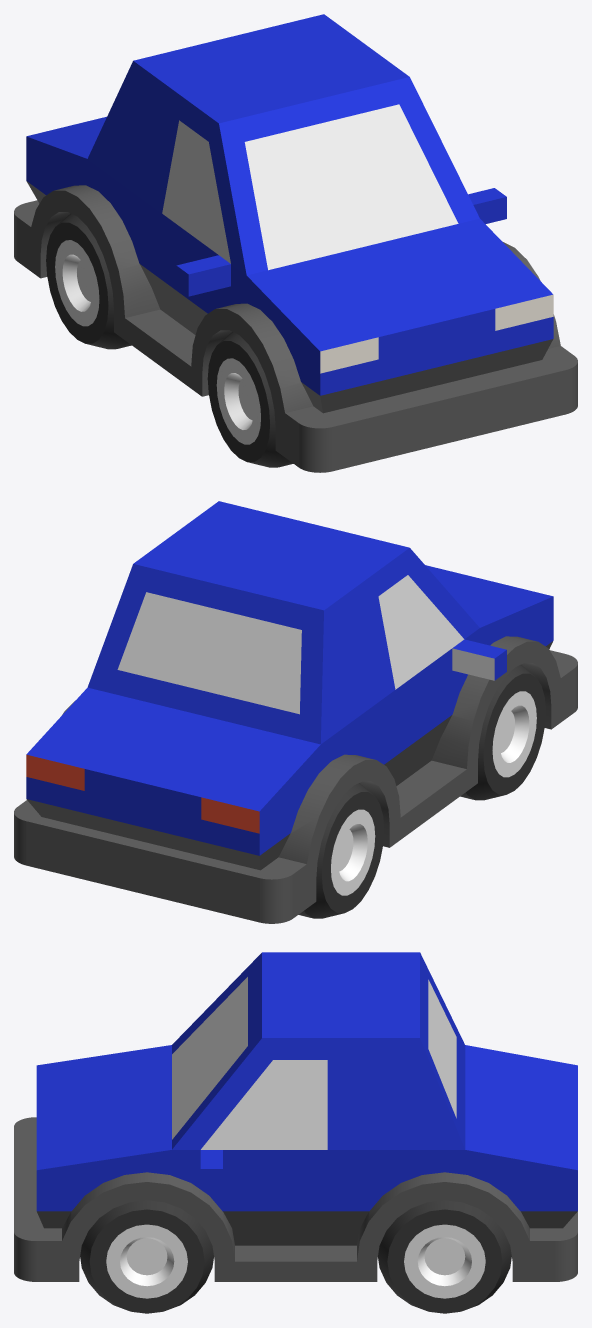
File: sedan_blue.fbx
3 views of the same model, one above another, from view 1: azimuth 30°, elevation 25°; view 2: azimuth 150°, elevation 25°; view 3: azimuth 270°, elevation 25° (orthographic). The views are drawn at different scales.
Parts seen in each view (by area): view 1: sedan; view 2: sedan; view 3: sedan.
Boxes of the visible parts, <box> form: sedan: <box>14,14,577,472</box>; sedan: <box>14,501,577,923</box>; sedan: <box>14,952,577,1313</box>.
Size of the model in its own units: 11.25 by 9.75 by 18.75.
